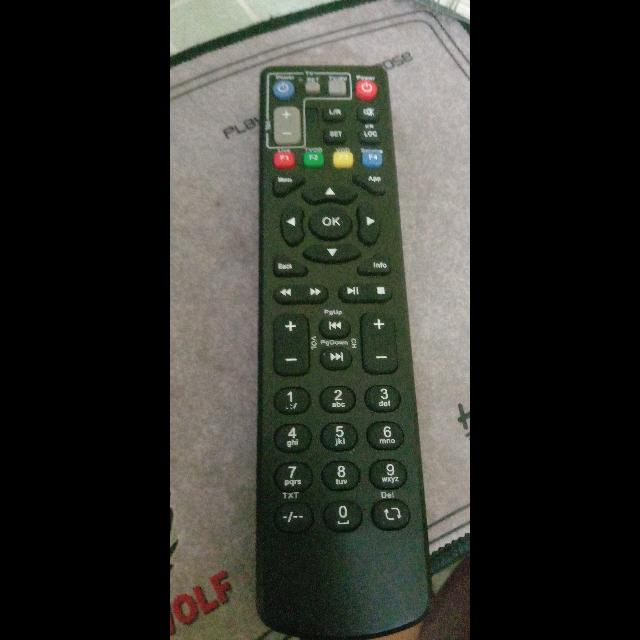TV-Remote-Control: (246, 58, 438, 640)
